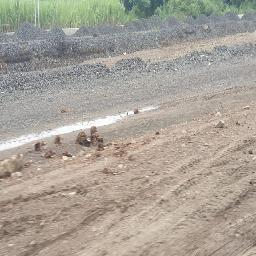water accumulation: (0, 104, 158, 151)
